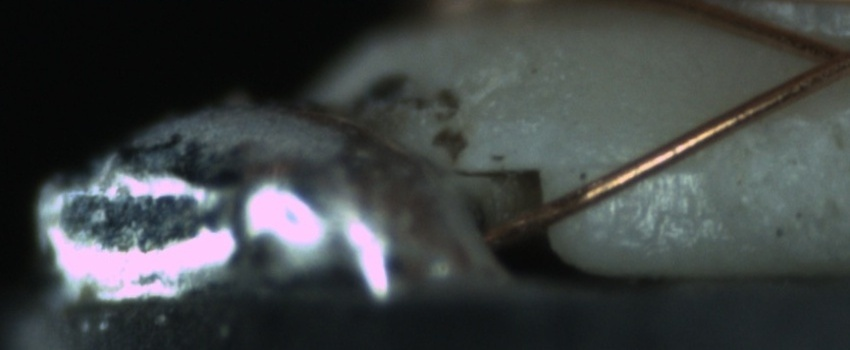CL: (795, 27, 849, 88)
DL: (577, 141, 700, 194)
